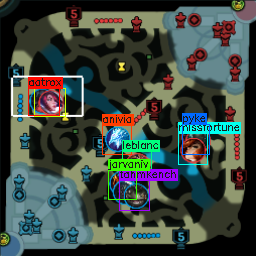aatrox: (30, 90, 53, 113)
anivia: (106, 127, 130, 151)
fiora: (38, 89, 62, 113)
jarvaniv: (108, 170, 134, 194)
leblanc: (124, 153, 148, 177)
missfortune: (180, 138, 204, 162)
pyke: (185, 128, 209, 150)
senna: (114, 180, 138, 203)
tahmkench: (124, 184, 148, 207)
